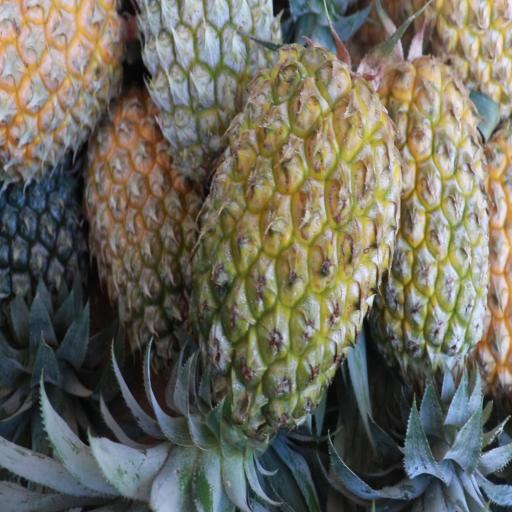------------------------------: (88, 100, 190, 355)
Pineapple - v8 v1: (192, 55, 394, 411), (379, 55, 490, 361), (0, 0, 121, 168)
